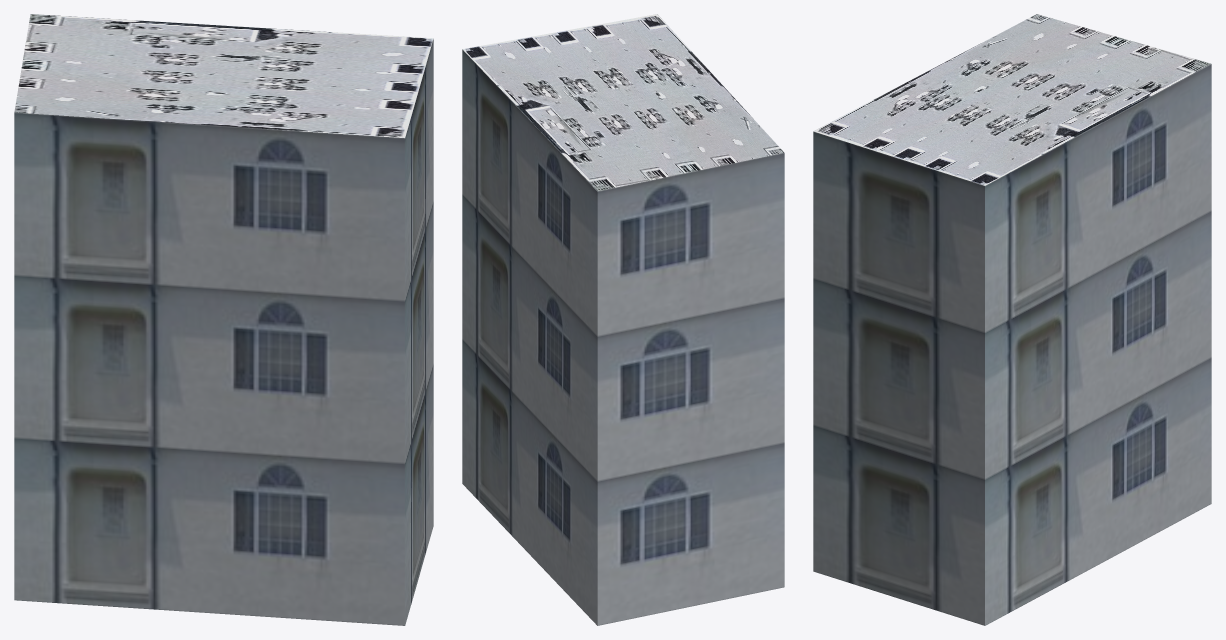
File: ResTex__4614.fbx
3 views of the same model, side by side, from view 1: azimuth 30°, elevation 25°; view 2: azimuth 150°, elevation 25°; view 3: azimuth 270°, elevation 25° (orthographic). The views are drawn at different scales.
Visible parts, largest first — view 1: CityEngineMaterial_17_m, CityEngineMaterial_8_m; view 2: CityEngineMaterial_17_m, CityEngineMaterial_8_m; view 3: CityEngineMaterial_17_m, CityEngineMaterial_8_m.
Part boxes in pixels (box(x1,y1,x2,y2)): CityEngineMaterial_17_m: box(14, 39, 433, 625); CityEngineMaterial_8_m: box(14, 14, 433, 138); CityEngineMaterial_17_m: box(462, 49, 784, 625); CityEngineMaterial_8_m: box(462, 14, 784, 191); CityEngineMaterial_17_m: box(813, 64, 1211, 625); CityEngineMaterial_8_m: box(813, 14, 1211, 185).
Size of the model in its own units: 7.54 by 9 by 7.39.
Materials: 2 (2 with a texture image).
